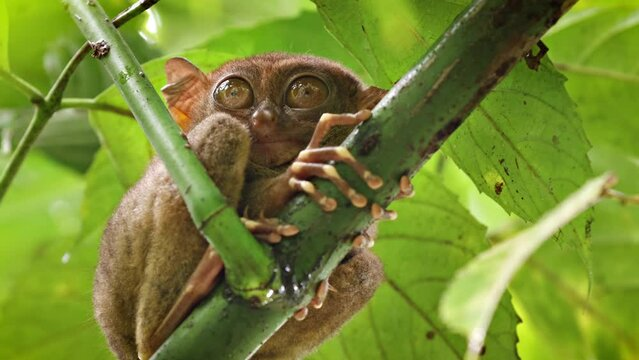tarsier: (72, 49, 407, 353)
